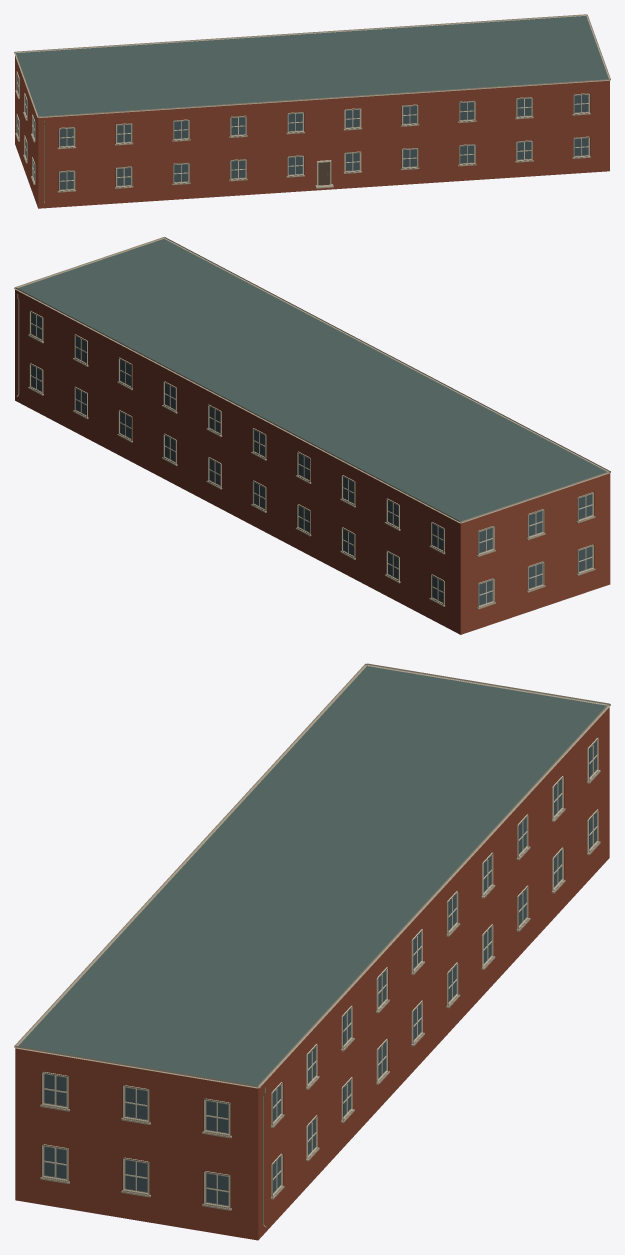
3 renders of one model, top to bottom at view 1: azimuth 30°, elevation 25°; view 2: azimuth 150°, elevation 25°; view 3: azimuth 270°, elevation 25°, orthographic. The views are drawn at different scales.
Visible parts, largest first — view 1: 6_2_633747015_2; view 2: 6_2_633747015_2; view 3: 6_2_633747015_2.
Part boxes in pixels (box(x1,y1,x2,y2)): 6_2_633747015_2: box(14, 14, 610, 208); 6_2_633747015_2: box(14, 237, 610, 634); 6_2_633747015_2: box(14, 663, 610, 1240).
Bounding box in the file's own units: 51.16 × 8.67 × 30.45.
